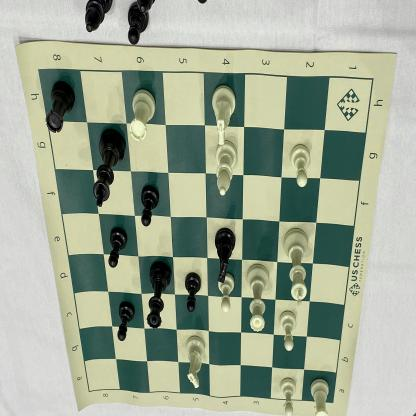black-king: (90, 127, 126, 208)
black-knight: (212, 227, 239, 283)
black-pawn: (107, 224, 130, 271), (116, 297, 136, 343), (140, 184, 160, 229), (184, 272, 202, 314)
black-queen: (145, 258, 172, 331)
black-rook: (44, 79, 76, 136)
white-bishop: (215, 139, 238, 198)
white-king: (282, 225, 310, 310)
white-knight: (210, 83, 238, 146), (184, 334, 207, 391)
white-pawn: (288, 143, 314, 189), (278, 309, 298, 353), (216, 272, 236, 314), (278, 376, 299, 416)
white-queen: (245, 262, 269, 335)
white-rook: (130, 87, 157, 145), (310, 375, 329, 416)
